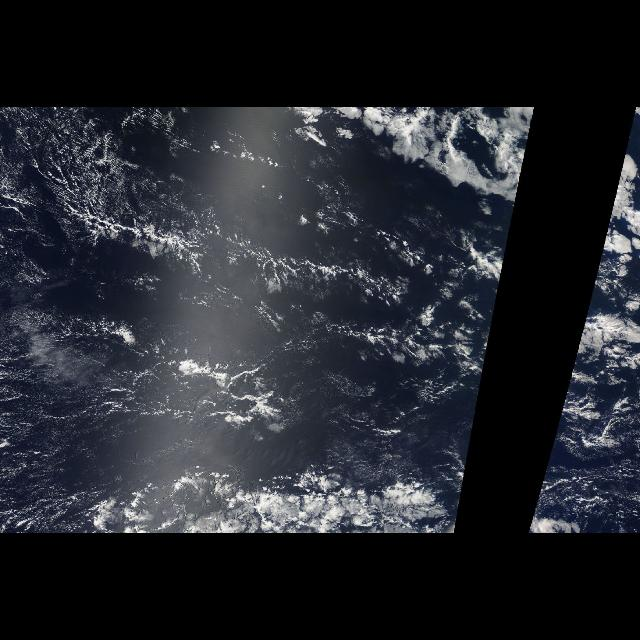Fish: (19, 146, 472, 442)
Sugar: (2, 150, 418, 480)
